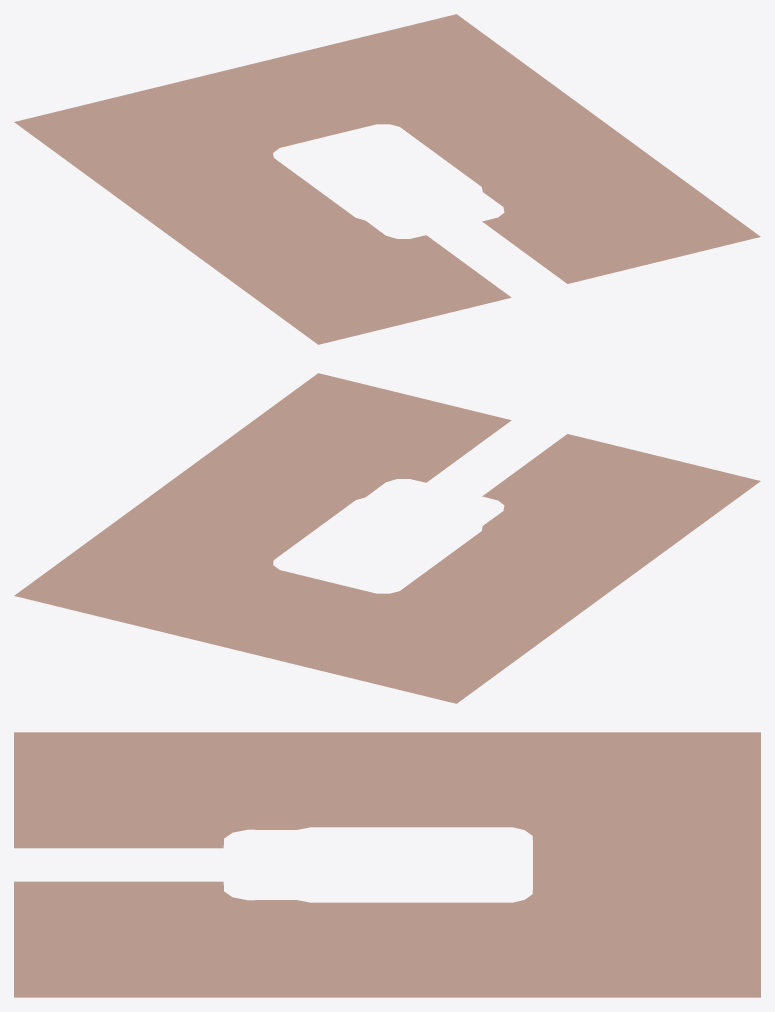
Rendered from ground_2.fbx.
3 views of the same model, one above another, from view 1: azimuth 30°, elevation 25°; view 2: azimuth 150°, elevation 25°; view 3: azimuth 270°, elevation 25° (orthographic). The views are drawn at different scales.
Visible parts, largest first — view 1: ground_2; view 2: ground_2; view 3: ground_2.
Part boxes in pixels (<box>): ground_2: <box>14,14,760,344</box>; ground_2: <box>14,373,760,703</box>; ground_2: <box>14,732,760,997</box>.
Bounding box in the file's own units: 6132 × 0.00119 × 7303.
